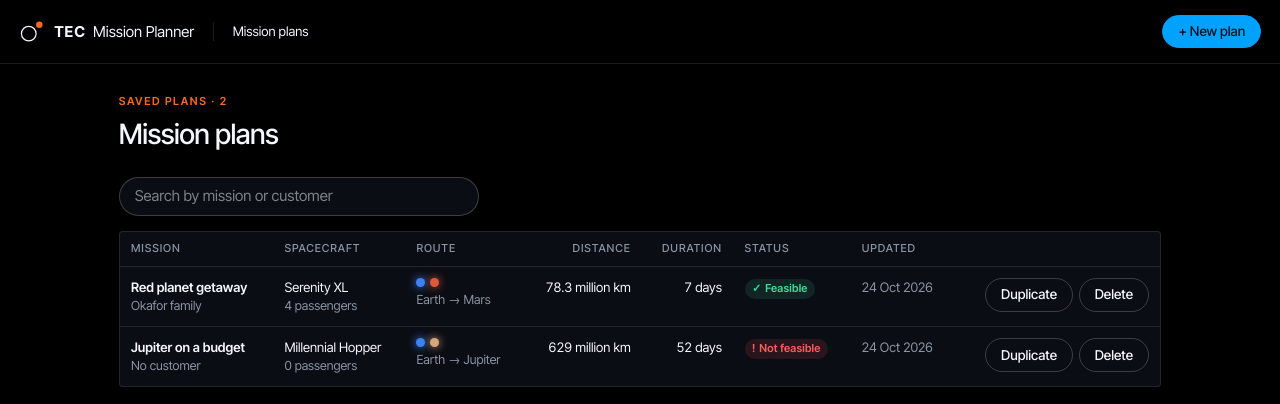
Test: Mission plans list › searches by mission name or customer, ignoring case
Expected: the link "Red planet getaway" is shown, [131, 279, 247, 295]
Type "JUPITER" into the search field named "Search mission plans by name or customer". click: (299, 196)
box: [119, 177, 479, 216]
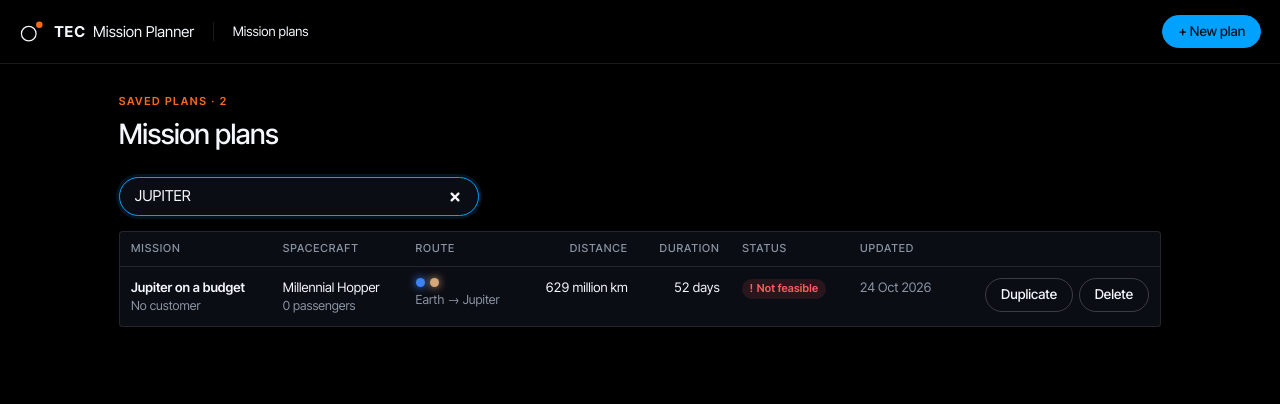
Replace the text in the search field named "Search mission plans by name or customer" with "okafor". click: (299, 196)
box: [119, 177, 479, 216]
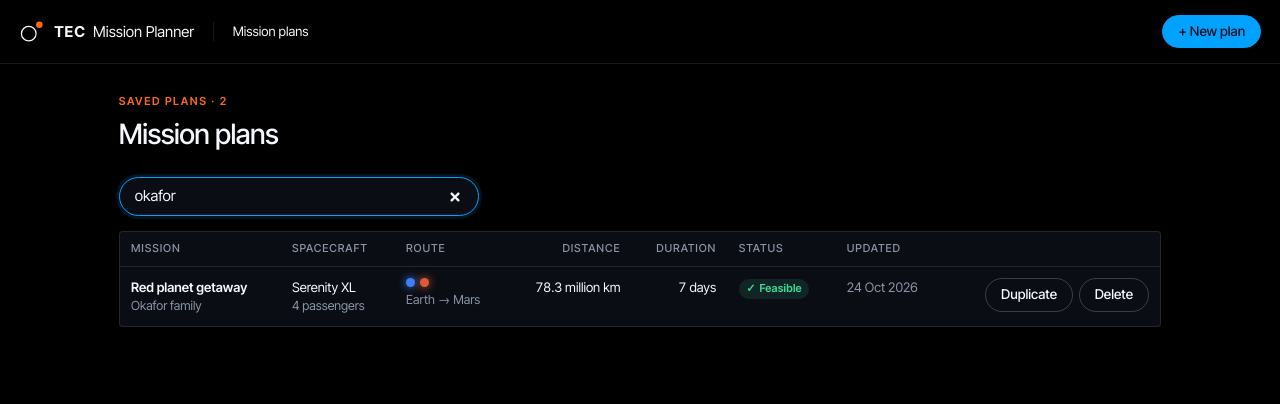
Replace the text in the search field named "Search mission plans by name or customer" with "Saturn". click: (299, 196)
box: [119, 177, 479, 216]
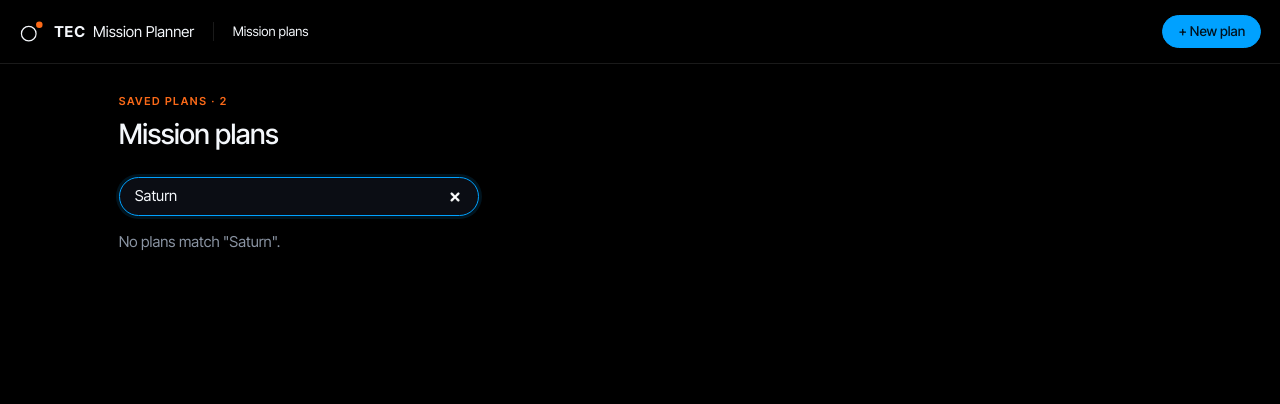
Result: the text "No plans match \"Saturn\"." is shown at [119, 232, 280, 250]
